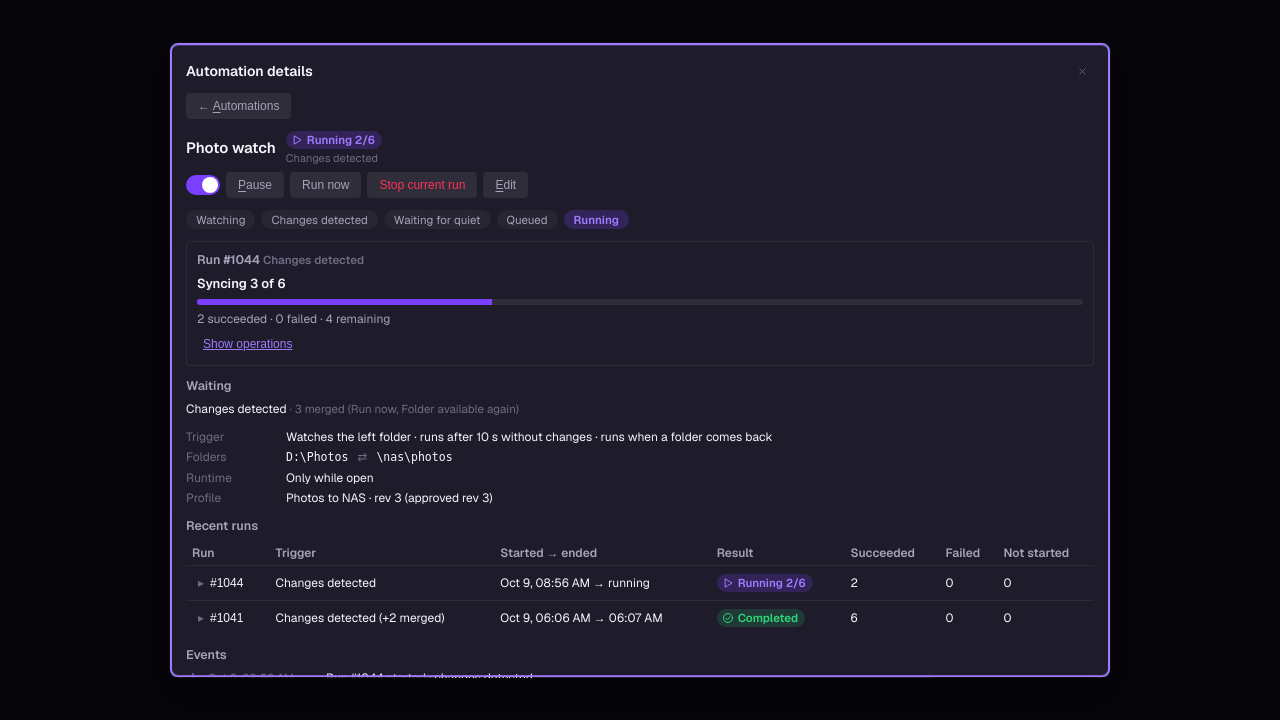
Test: AutomationDetail (MH-5) › Edit is available for a watch automation and opens its editor
Click the button "Edit" at (506, 185), box [484,172,528,198]
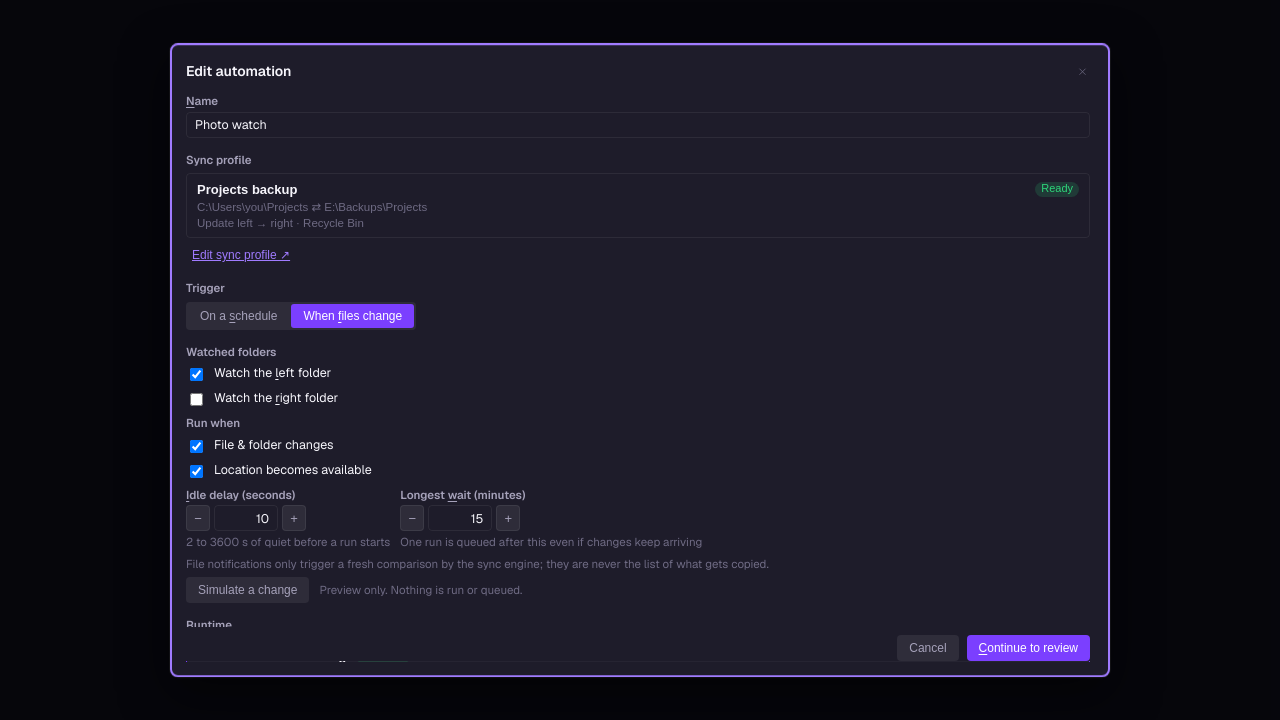
expect the element with test id "watch-fields" is shown: met, box [186,344,769,603]
expect the checkbox labelled "Watch the left folder" is checked: met, box [190,368,203,381]
